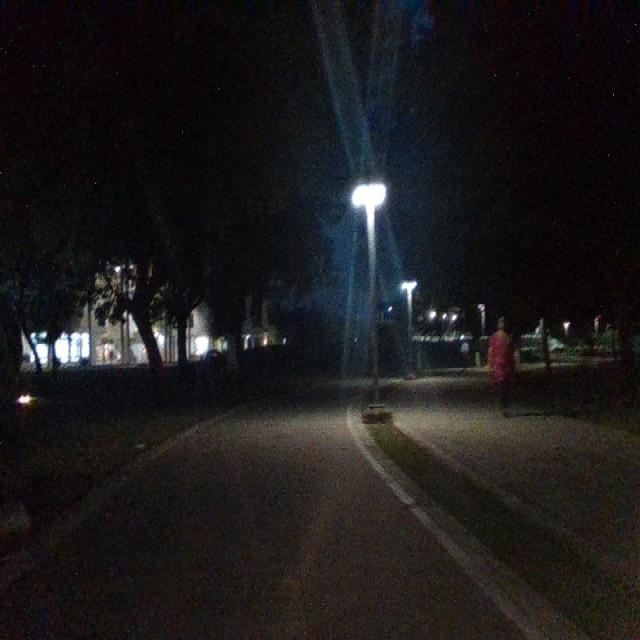lane: (6, 409, 523, 635)
